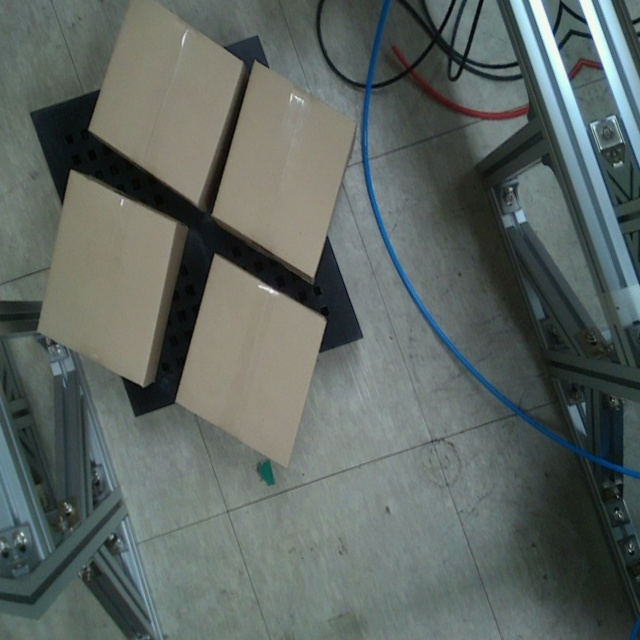box: (172, 251, 330, 472), (209, 59, 360, 279), (87, 0, 246, 206), (33, 167, 179, 387)
